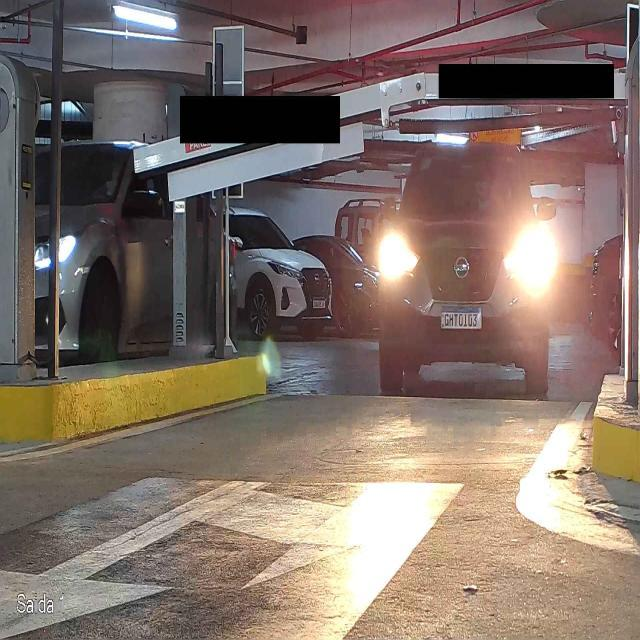mercosul_plate: (439, 304, 483, 331)
